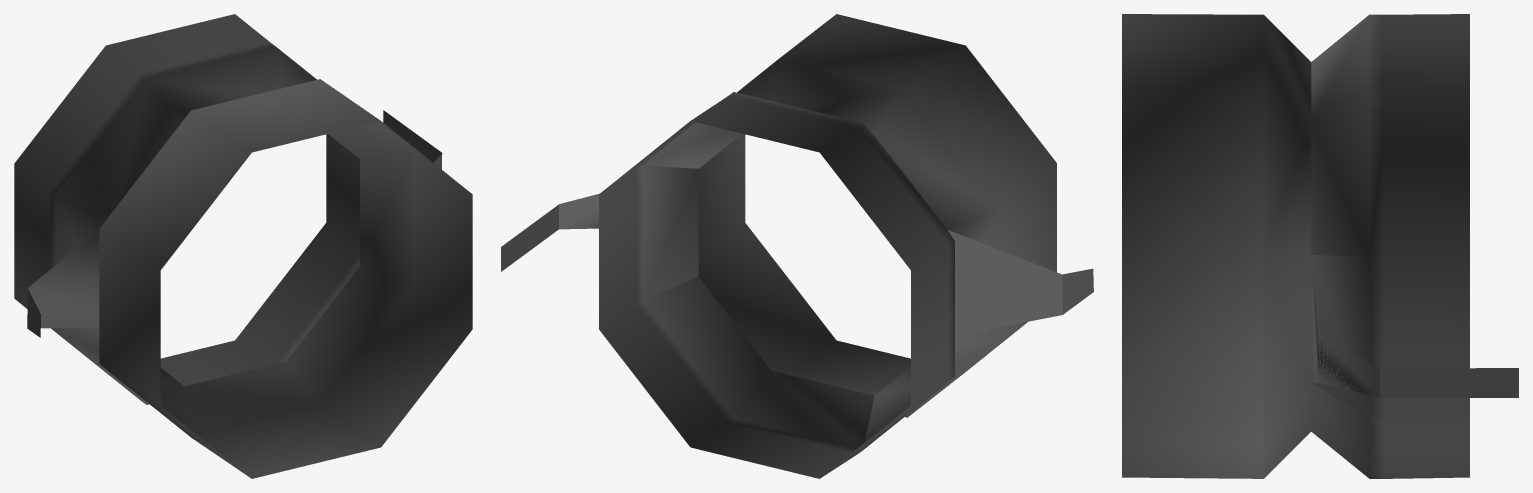
Rendered from stat_middle0.glb.
3 renders of one model, left to right at view 1: azimuth 30°, elevation 25°; view 2: azimuth 150°, elevation 25°; view 3: azimuth 270°, elevation 25°, orthographic. The views are drawn at different scales.
Visible parts, largest first — view 1: group_13; view 2: group_13; view 3: group_13.
Boxes of the visible parts, x1,y1,x2,y2 form: group_13: (14,14,472,478); group_13: (501,14,1093,478); group_13: (1122,14,1518,478).
Size of the model in its own units: 11358 by 7610 by 7008.
1 material, 1 textured.
